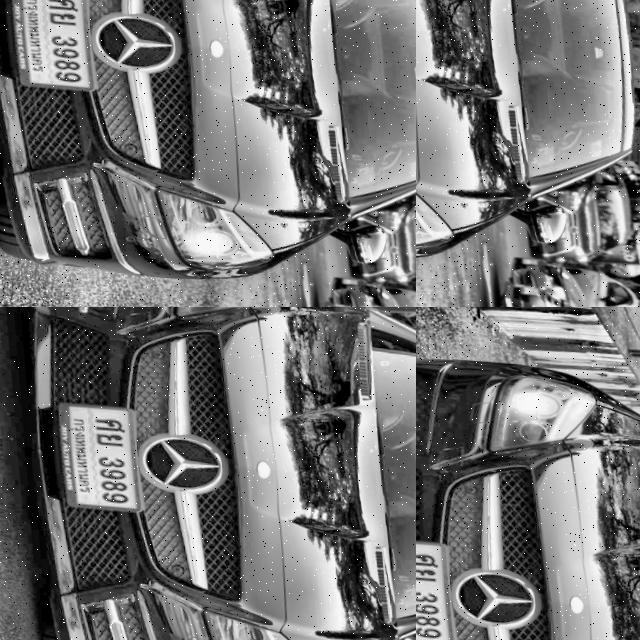license-plate: (416, 531, 450, 640)
